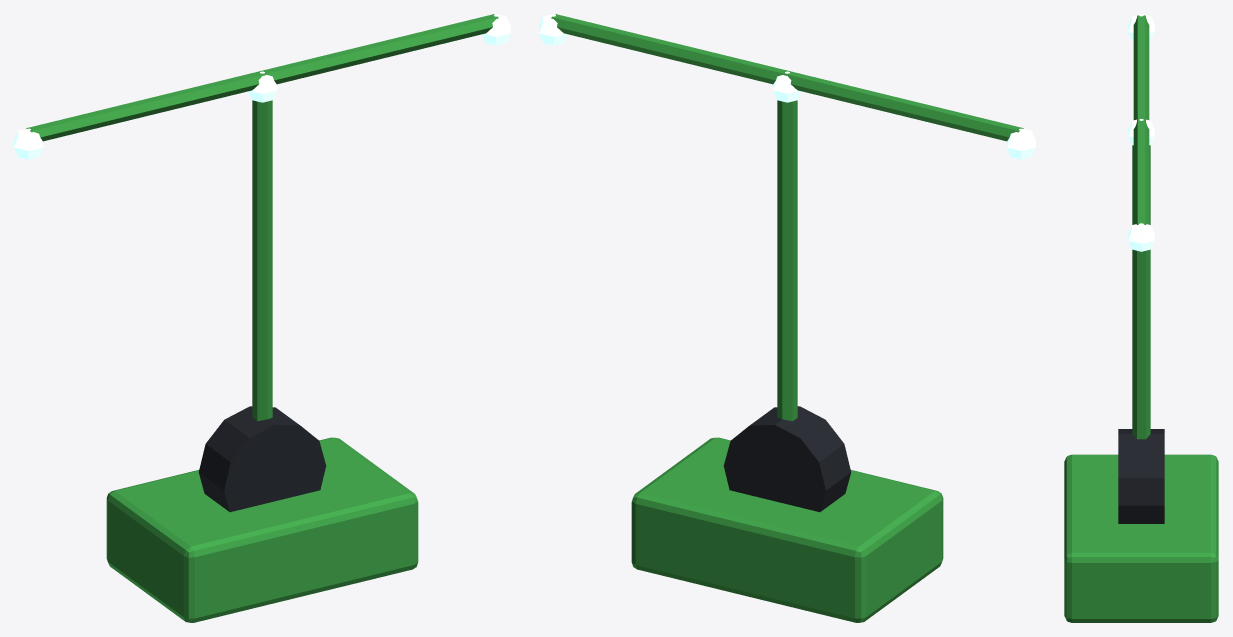
The model's file is sprinkler.glb.
3 renders of one model, left to right at view 1: azimuth 30°, elevation 25°; view 2: azimuth 150°, elevation 25°; view 3: azimuth 270°, elevation 25°, orthographic. The views are drawn at different scales.
Visible parts, largest first — view 1: sprinkler; view 2: sprinkler; view 3: sprinkler.
Part boxes in pixels (<box>): sprinkler: <box>14,14,510,622</box>; sprinkler: <box>539,14,1035,622</box>; sprinkler: <box>1064,14,1218,622</box>.
Bounding box in the file's own units: 3.4 × 3.25 × 1.
